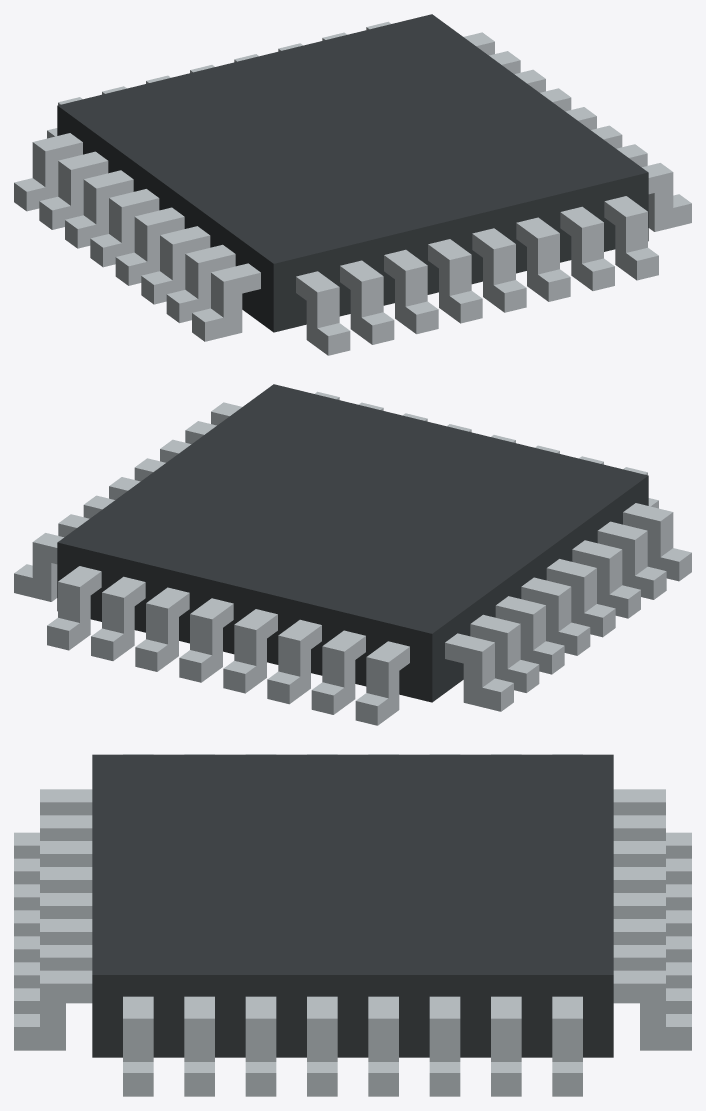
Rendered from DU_電路板_藍_十字積體電路.fbx.
3 views of the same model, one above another, from view 1: azimuth 30°, elevation 25°; view 2: azimuth 150°, elevation 25°; view 3: azimuth 270°, elevation 25° (orthographic). The views are drawn at different scales.
Visible parts, largest first — view 1: pCube94; view 2: pCube94; view 3: pCube94.
Boxes of the visible parts, x1,y1,x2,y2 form: pCube94: (14, 14, 691, 355); pCube94: (14, 384, 691, 725); pCube94: (14, 754, 691, 1096).
Size of the model in its own units: 1.3 by 0.1876 by 1.3.
Materials: 1 (1 with a texture image).
